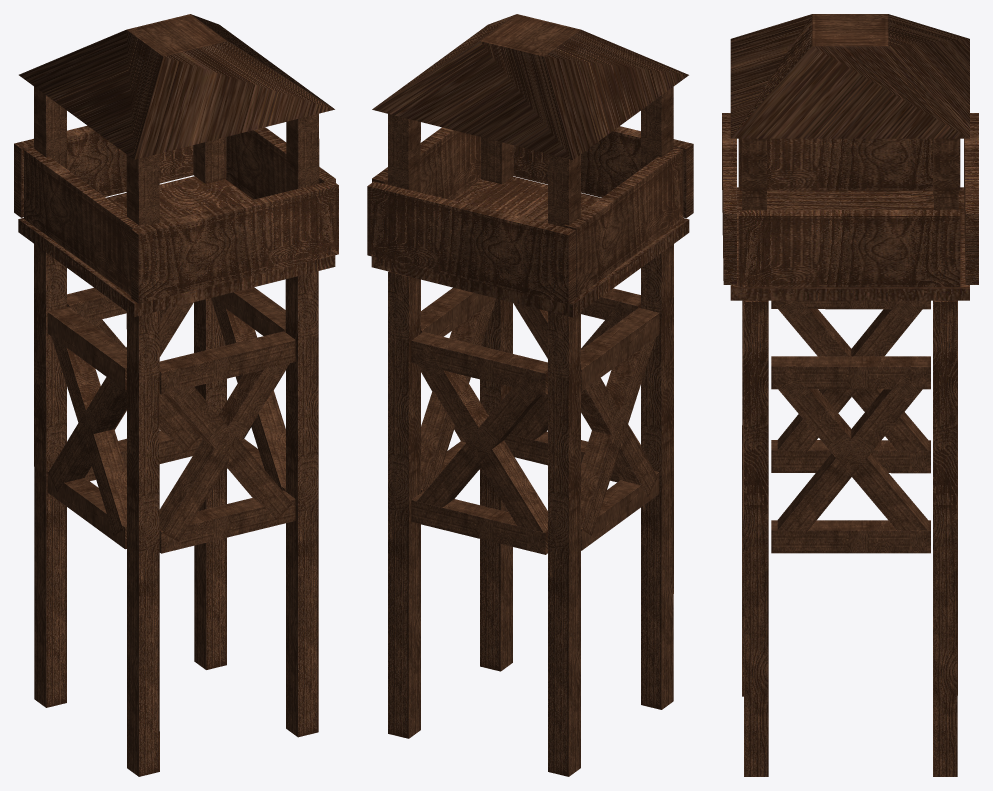
Rendered from tower.FBX.
The picture shows the model from 3 angles, left to right: view 1: azimuth 30°, elevation 25°; view 2: azimuth 150°, elevation 25°; view 3: azimuth 270°, elevation 25°; orthographic projection. The views are drawn at different scales.
Visible parts, largest first — view 1: polySurface038, Object009, polySurface040, Object012, Object013, Object001, Object011, polySurface041, polySurface37, Object014, Object010, polySurface039 (+6 smaller); view 2: polySurface038, Object008, polySurface039, Object001, Object014, Object012, Object011, polySurface041, polySurface37, Object013, Object010, polySurface040 (+6 smaller); view 3: polySurface038, Object010, polySurface042, Object013, Object014, Object011, polySurface041, polySurface37, polySurface039, polySurface040, Object017, Object018 (+1 smaller).
Boxes of the visible parts, bbox=[...] form: polySurface038: bbox=[19, 14, 334, 159]; Object009: bbox=[159, 331, 295, 553]; polySurface040: bbox=[131, 180, 338, 303]; Object012: bbox=[126, 311, 159, 776]; Object013: bbox=[285, 271, 318, 737]; Object001: bbox=[34, 244, 66, 707]; Object011: bbox=[47, 307, 126, 549]; polySurface041: bbox=[24, 147, 143, 295]; polySurface37: bbox=[18, 176, 335, 316]; Object014: bbox=[194, 298, 226, 669]; Object010: bbox=[211, 287, 285, 491]; polySurface039: bbox=[14, 125, 193, 217]; polySurface038: bbox=[372, 14, 688, 159]; Object008: bbox=[411, 332, 547, 554]; polySurface039: bbox=[367, 181, 575, 304]; Object001: bbox=[548, 311, 580, 776]; Object014: bbox=[388, 271, 420, 738]; Object012: bbox=[641, 244, 673, 709]; Object011: bbox=[581, 307, 659, 550]; polySurface041: bbox=[564, 147, 683, 297]; polySurface37: bbox=[371, 176, 689, 317]; Object013: bbox=[480, 298, 512, 671]; Object010: bbox=[421, 287, 496, 492]; polySurface040: bbox=[513, 126, 693, 218]; polySurface038: bbox=[730, 14, 969, 138]; Object010: bbox=[771, 356, 930, 553]; polySurface042: bbox=[738, 209, 960, 287]; Object013: bbox=[744, 300, 768, 776]; Object014: bbox=[933, 300, 957, 776]; Object011: bbox=[771, 300, 930, 473]; polySurface041: bbox=[738, 138, 960, 190]; polySurface37: bbox=[730, 187, 969, 300]; polySurface039: bbox=[964, 113, 978, 284]; polySurface040: bbox=[722, 113, 736, 284]; Object017: bbox=[742, 138, 766, 210]; Object018: bbox=[934, 138, 958, 209].
Bounding box in the file's own units: 2.65 × 8.4 × 2.79.
